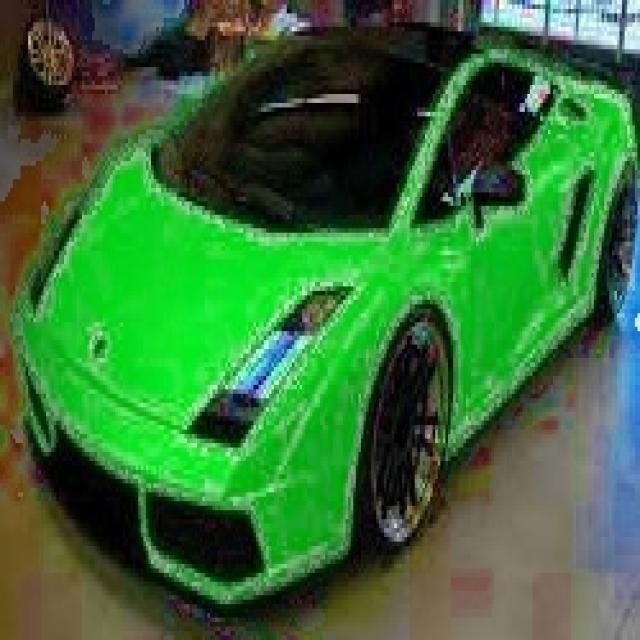green: (18, 27, 637, 604)
